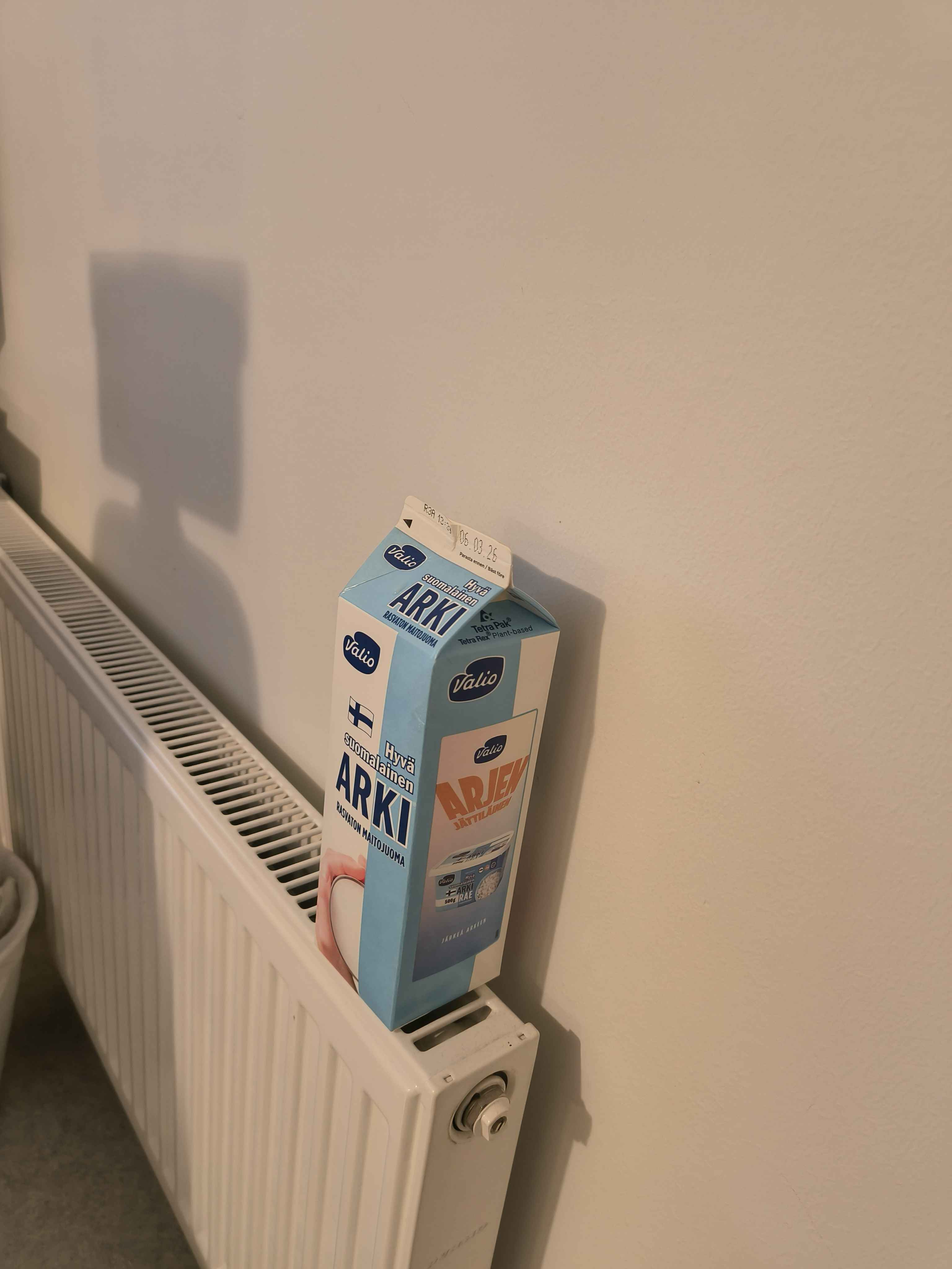Dryckeskartong: (311, 494, 561, 1033)
